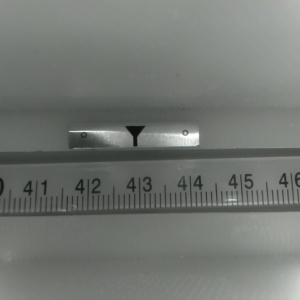0: (0, 179, 4, 198)
1: (40, 180, 46, 196)
2: (90, 178, 100, 194)
3: (141, 177, 152, 192)
4: (277, 172, 288, 188), (177, 176, 188, 191), (22, 181, 33, 196), (126, 177, 136, 192), (74, 179, 84, 194), (227, 174, 237, 189), (193, 176, 203, 190)
5: (243, 173, 253, 189)
6: (294, 172, 300, 188)
finger: (123, 126, 145, 147)
